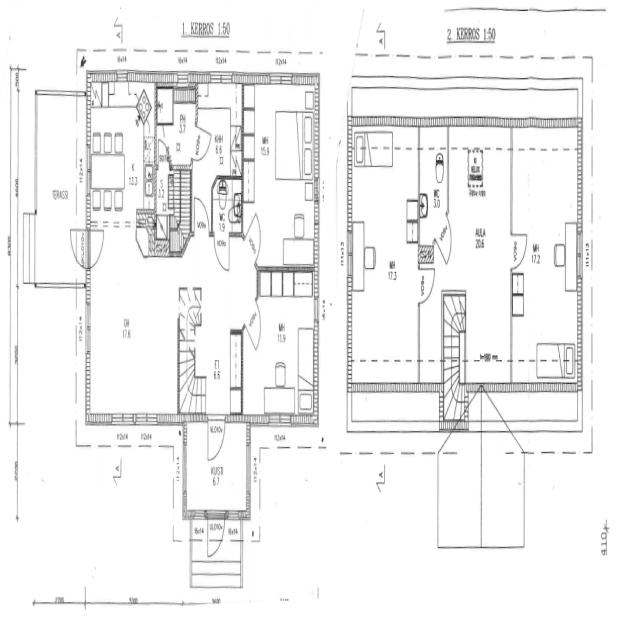door: (206, 411, 226, 463), (68, 224, 89, 267), (245, 207, 262, 260), (207, 508, 225, 558), (86, 223, 106, 268), (509, 228, 530, 270), (244, 300, 262, 348), (417, 261, 436, 305), (194, 122, 213, 161), (213, 232, 231, 273), (193, 193, 210, 234)
window: (345, 218, 355, 284), (574, 224, 584, 286), (83, 295, 93, 355), (266, 409, 294, 429), (110, 407, 136, 427), (207, 68, 234, 87), (181, 439, 189, 498), (134, 408, 158, 427), (269, 69, 294, 87), (245, 439, 252, 494), (416, 306, 422, 360), (114, 67, 130, 85), (176, 70, 190, 90), (190, 506, 207, 522), (226, 508, 243, 522)
zone: (510, 137, 580, 387), (351, 133, 419, 371), (446, 135, 512, 379), (243, 79, 317, 263), (242, 268, 316, 419), (32, 89, 84, 284), (88, 80, 155, 222), (196, 79, 243, 226), (190, 328, 243, 414), (419, 126, 448, 255), (155, 85, 198, 168), (156, 162, 192, 250), (358, 129, 398, 165), (178, 341, 194, 414), (348, 292, 362, 364)
